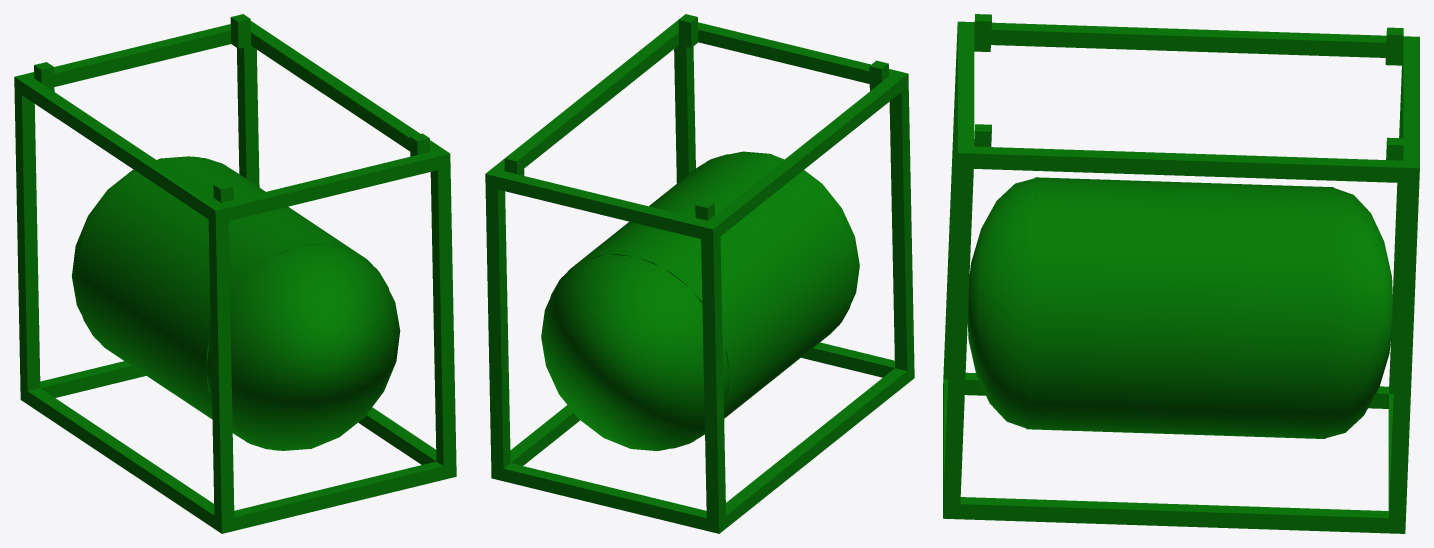
The model's file is Image-1710907552891-2281200077504_57-VS50.fbx.
The picture shows the model from 3 angles, left to right: view 1: azimuth 30°, elevation 25°; view 2: azimuth 150°, elevation 25°; view 3: azimuth 270°, elevation 25°; orthographic projection. The views are drawn at different scales.
Visible parts, largest first — view 1: CYLINDER 1 of SUBEQUIPMENT /57-VS50/DRUM, DISH 2 of SUBEQUIPMENT /57-VS50/DRUM, BOX 12 of SUBEQUIPMENT /57-VS50/FRAME, BOX 9 of SUBEQUIPMENT /57-VS50/FRAME, BOX 11 of SUBEQUIPMENT /57-VS50/FRAME, BOX 4 of SUBEQUIPMENT /57-VS50/FRAME, BOX 3 of SUBEQUIPMENT /57-VS50/FRAME, BOX 2 of SUBEQUIPMENT /57-VS50/FRAME, BOX 6 of SUBEQUIPMENT /57-VS50/FRAME, BOX 5 of SUBEQUIPMENT /57-VS50/FRAME, BOX 8 of SUBEQUIPMENT /57-VS50/FRAME, BOX 10 of SUBEQUIPMENT /57-VS50/FRAME (+4 smaller); view 2: CYLINDER 1 of SUBEQUIPMENT /57-VS50/DRUM, DISH 1 of SUBEQUIPMENT /57-VS50/DRUM, BOX 11 of SUBEQUIPMENT /57-VS50/FRAME, BOX 10 of SUBEQUIPMENT /57-VS50/FRAME, BOX 12 of SUBEQUIPMENT /57-VS50/FRAME, BOX 4 of SUBEQUIPMENT /57-VS50/FRAME, BOX 3 of SUBEQUIPMENT /57-VS50/FRAME, BOX 2 of SUBEQUIPMENT /57-VS50/FRAME, BOX 8 of SUBEQUIPMENT /57-VS50/FRAME, BOX 7 of SUBEQUIPMENT /57-VS50/FRAME, BOX 6 of SUBEQUIPMENT /57-VS50/FRAME, BOX 9 of SUBEQUIPMENT /57-VS50/FRAME (+4 smaller); view 3: CYLINDER 1 of SUBEQUIPMENT /57-VS50/DRUM, DISH 2 of SUBEQUIPMENT /57-VS50/DRUM, DISH 1 of SUBEQUIPMENT /57-VS50/DRUM, BOX 2 of SUBEQUIPMENT /57-VS50/FRAME, BOX 1 of SUBEQUIPMENT /57-VS50/FRAME, BOX 4 of SUBEQUIPMENT /57-VS50/FRAME, BOX 9 of SUBEQUIPMENT /57-VS50/FRAME, BOX 10 of SUBEQUIPMENT /57-VS50/FRAME, BOX 6 of SUBEQUIPMENT /57-VS50/FRAME, BOX 8 of SUBEQUIPMENT /57-VS50/FRAME, BOX 12 of SUBEQUIPMENT /57-VS50/FRAME, BOX 11 of SUBEQUIPMENT /57-VS50/FRAME (+3 smaller).
Boxes of the visible parts, x1,y1,x2,y2 form: CYLINDER 1 of SUBEQUIPMENT /57-VS50/DRUM: (75,156,389,449); DISH 2 of SUBEQUIPMENT /57-VS50/DRUM: (206,244,400,450); BOX 12 of SUBEQUIPMENT /57-VS50/FRAME: (208,220,234,520); BOX 9 of SUBEQUIPMENT /57-VS50/FRAME: (430,167,456,466); BOX 11 of SUBEQUIPMENT /57-VS50/FRAME: (14,90,40,390); BOX 4 of SUBEQUIPMENT /57-VS50/FRAME: (14,73,228,224); BOX 3 of SUBEQUIPMENT /57-VS50/FRAME: (20,386,234,533); BOX 2 of SUBEQUIPMENT /57-VS50/FRAME: (250,21,450,169); BOX 6 of SUBEQUIPMENT /57-VS50/FRAME: (221,152,437,220); BOX 5 of SUBEQUIPMENT /57-VS50/FRAME: (234,461,443,530); BOX 8 of SUBEQUIPMENT /57-VS50/FRAME: (27,24,231,86); BOX 10 of SUBEQUIPMENT /57-VS50/FRAME: (237,46,259,187); CYLINDER 1 of SUBEQUIPMENT /57-VS50/DRUM: (550,153,855,448); DISH 1 of SUBEQUIPMENT /57-VS50/DRUM: (541,254,729,450); BOX 11 of SUBEQUIPMENT /57-VS50/FRAME: (701,237,725,521); BOX 10 of SUBEQUIPMENT /57-VS50/FRAME: (485,186,510,468); BOX 12 of SUBEQUIPMENT /57-VS50/FRAME: (889,86,914,370); BOX 4 of SUBEQUIPMENT /57-VS50/FRAME: (700,70,908,241); BOX 3 of SUBEQUIPMENT /57-VS50/FRAME: (706,366,914,533); BOX 2 of SUBEQUIPMENT /57-VS50/FRAME: (485,20,678,189); BOX 8 of SUBEQUIPMENT /57-VS50/FRAME: (497,171,707,238); BOX 7 of SUBEQUIPMENT /57-VS50/FRAME: (503,463,706,530); BOX 6 of SUBEQUIPMENT /57-VS50/FRAME: (698,22,895,83); BOX 9 of SUBEQUIPMENT /57-VS50/FRAME: (674,45,695,183); CYLINDER 1 of SUBEQUIPMENT /57-VS50/DRUM: (1026,177,1334,438); DISH 2 of SUBEQUIPMENT /57-VS50/DRUM: (967,178,1035,428); DISH 1 of SUBEQUIPMENT /57-VS50/DRUM: (1326,188,1393,437); BOX 2 of SUBEQUIPMENT /57-VS50/FRAME: (957,146,1419,183); BOX 1 of SUBEQUIPMENT /57-VS50/FRAME: (943,497,1405,533); BOX 4 of SUBEQUIPMENT /57-VS50/FRAME: (957,21,1419,57); BOX 9 of SUBEQUIPMENT /57-VS50/FRAME: (943,167,973,503); BOX 10 of SUBEQUIPMENT /57-VS50/FRAME: (1389,183,1419,518); BOX 6 of SUBEQUIPMENT /57-VS50/FRAME: (957,28,974,157); BOX 8 of SUBEQUIPMENT /57-VS50/FRAME: (1402,43,1419,161); BOX 12 of SUBEQUIPMENT /57-VS50/FRAME: (943,42,956,379); BOX 11 of SUBEQUIPMENT /57-VS50/FRAME: (1389,65,1402,393).
Bounding box in the file's own units: 1.85 × 2.84 × 2.59.
